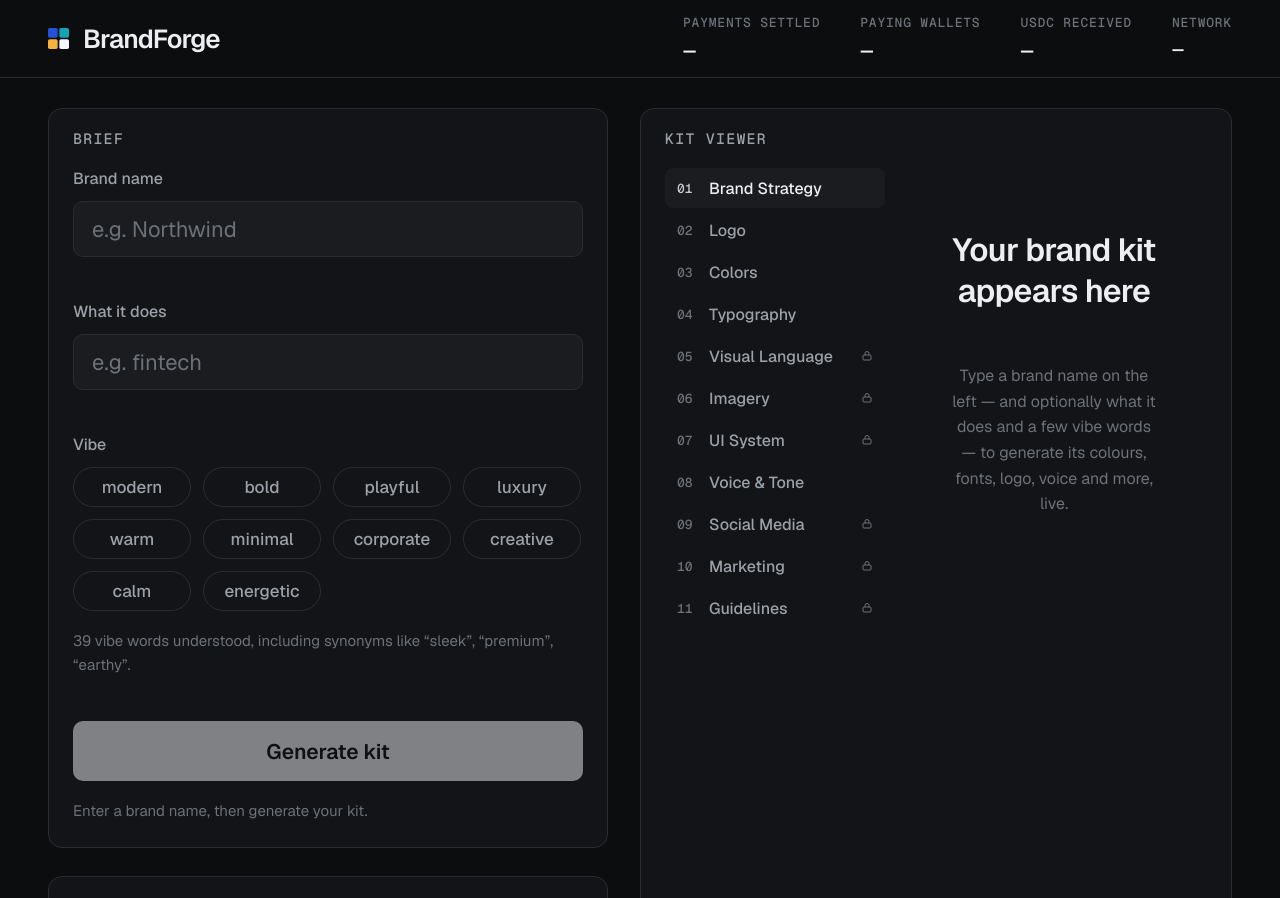
Test: the brand kit builder › stays blank until Generate is clicked, then builds the kit
Expected: the text "BrandForge" is shown, [83,22,220,56]
Expected: the heading "Your brand kit appears here" is shown, [949,229,1159,311]
Note: Typing alone does NOT build the kit — nothing renders until Generate.
Type "Northwind" into the field labelled "Brand name" at [328, 229], box [73,201,583,257]
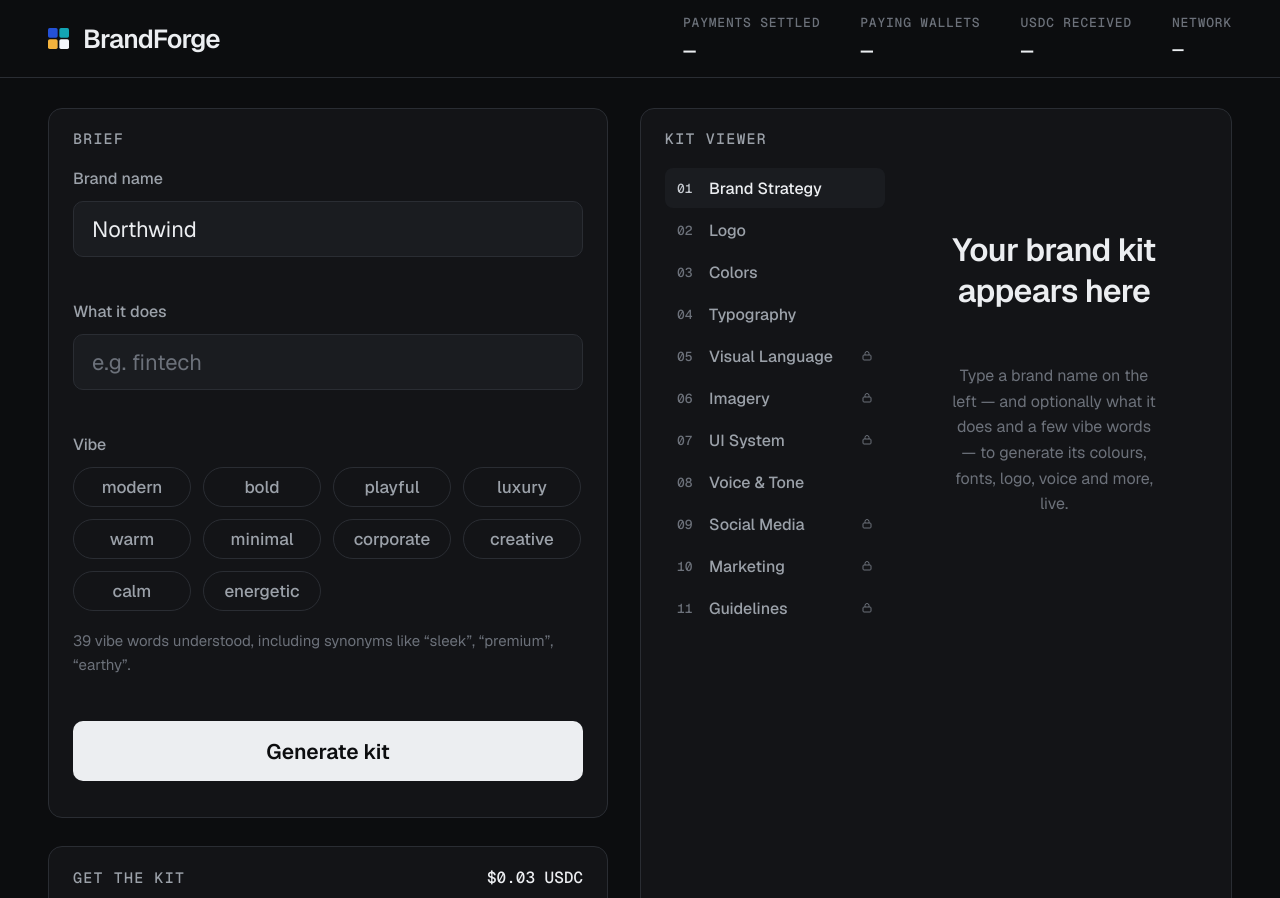
Expected: the heading "Your brand kit appears here" is shown, [949,229,1159,311]
Note: Clicking Generate processes the input and shows the result.
Click the button "Generate kit" at [328, 751], box [73,721,583,781]
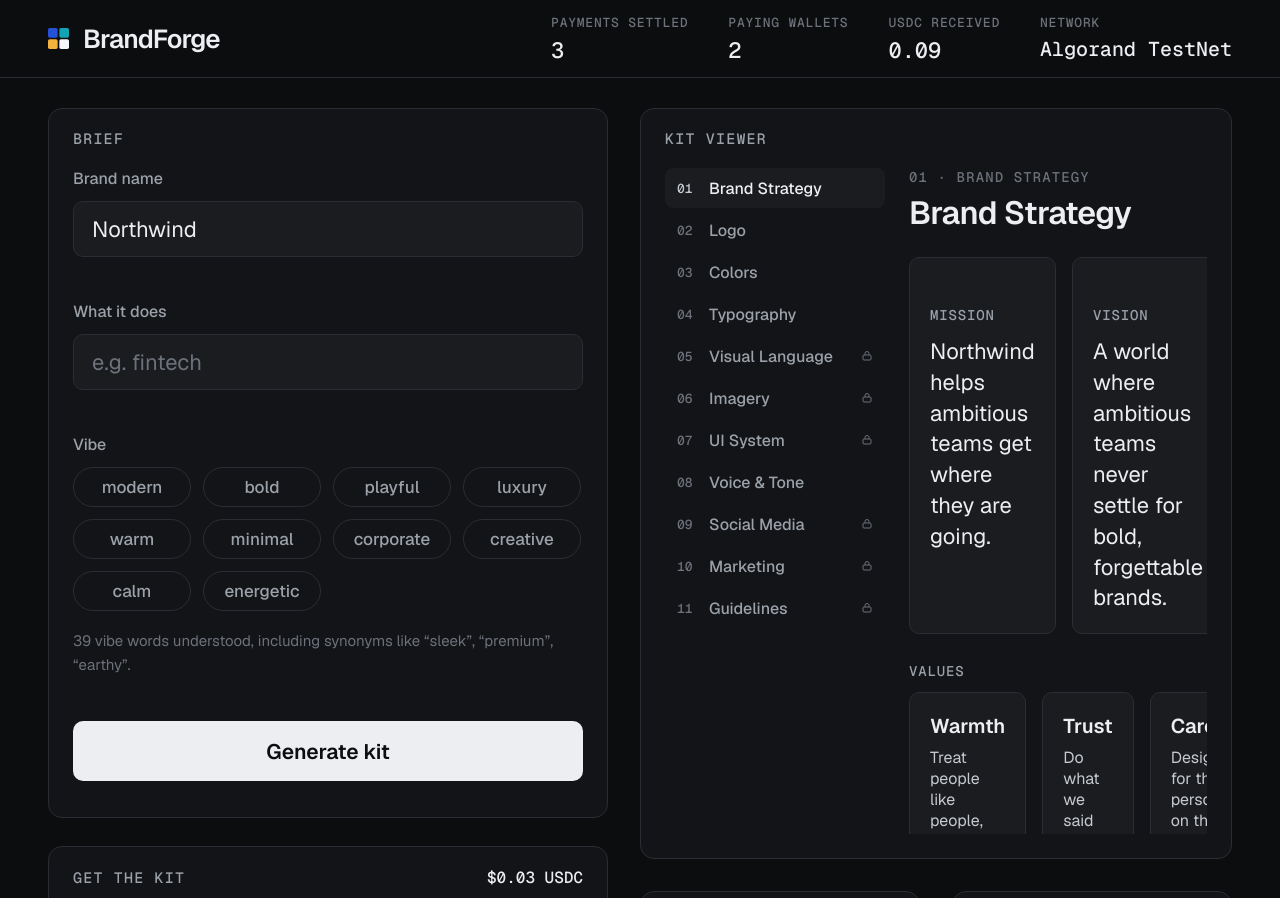
Expected: the text "Northwind helps ambitious teams get where they are going." is shown, [930,336,1035,552]
